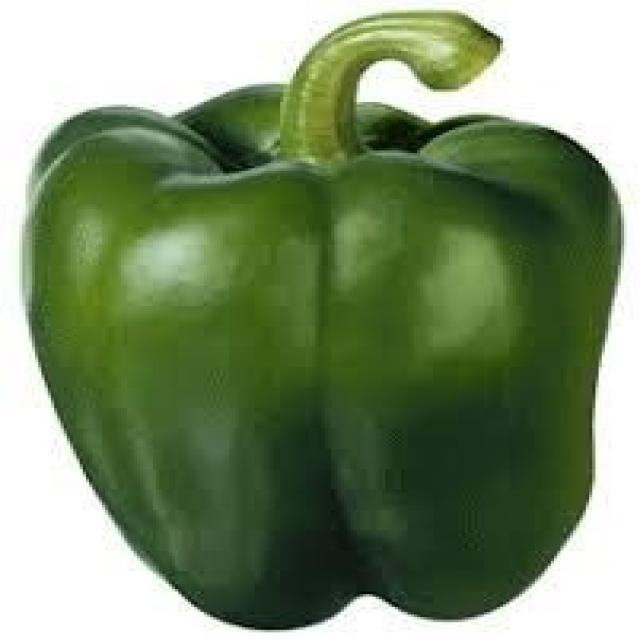bell_pepper: (4, 4, 621, 633)
